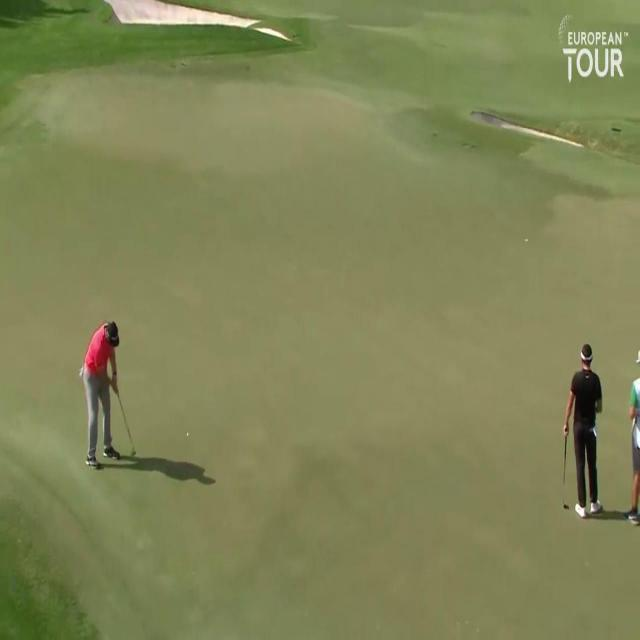GolfBall: (184, 428, 192, 442)
